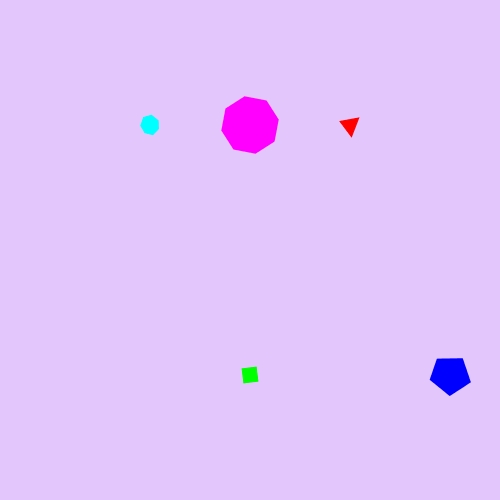heptagon: (136, 111, 165, 139)
octagon: (217, 92, 283, 158)
pentagon: (427, 352, 474, 399)
quadrilateral: (235, 360, 265, 390)
triangle: (337, 111, 364, 139)
